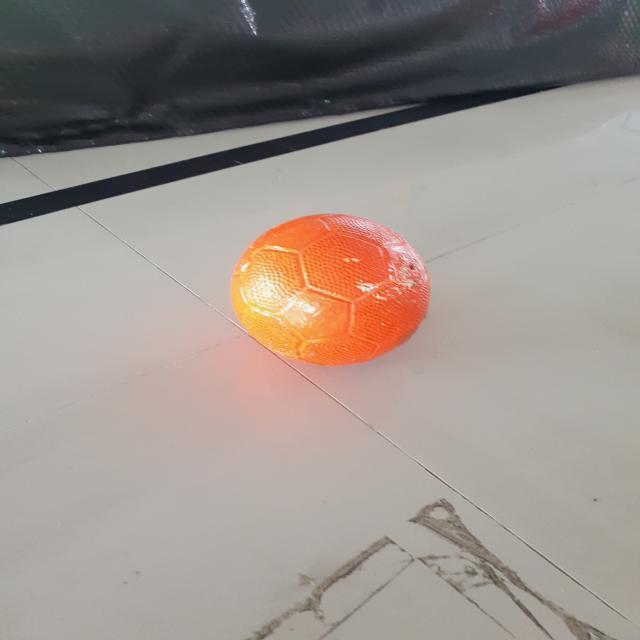bola: (217, 210, 452, 369)
